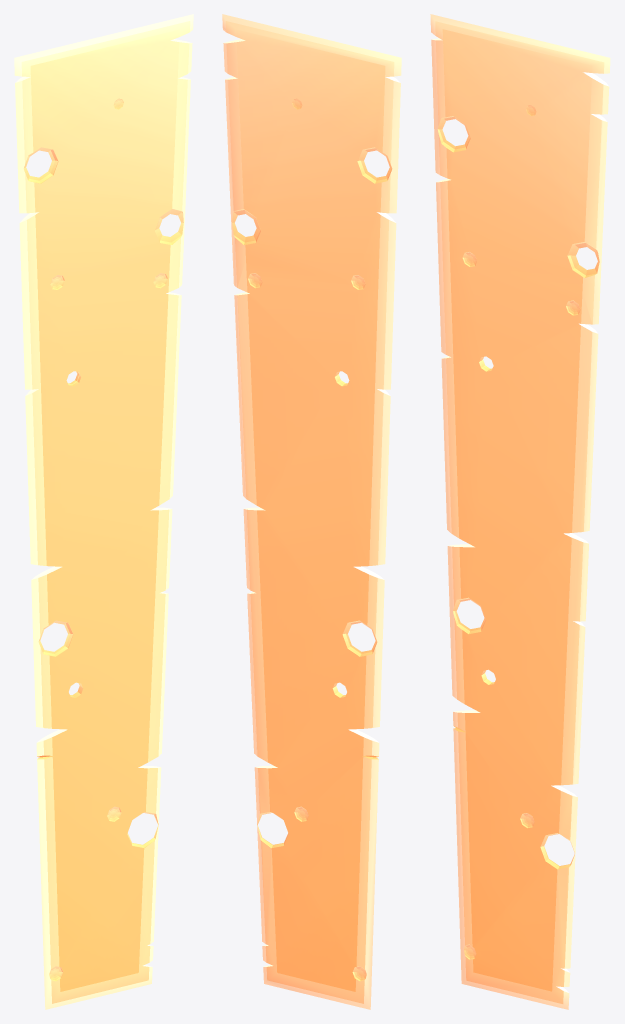
The model's file is wood_blade_bubbles_080.glb.
3 views of the same model, side by side, from view 1: azimuth 30°, elevation 25°; view 2: azimuth 150°, elevation 25°; view 3: azimuth 330°, elevation 25° (orthographic).
Parts seen in each view (by area): view 1: wood_blade_bubbles.080; view 2: wood_blade_bubbles.080; view 3: wood_blade_bubbles.080.
Part boxes in pixels (bbox=[...]): wood_blade_bubbles.080: bbox=[14, 14, 193, 1009]; wood_blade_bubbles.080: bbox=[222, 14, 401, 1009]; wood_blade_bubbles.080: bbox=[430, 14, 610, 1009].
Bounding box in the file's own units: 2.19 × 11.21 × 0.0882.
Materials: 1 (1 with a texture image).
